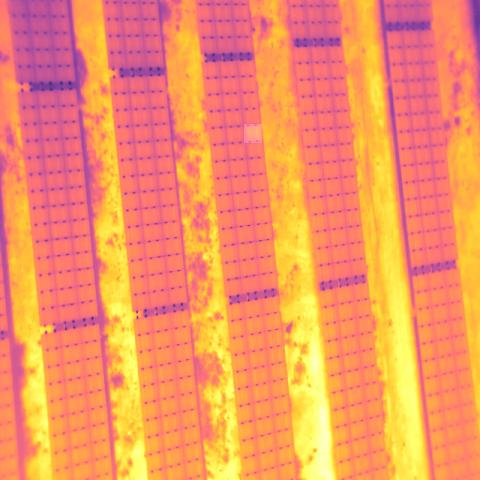fault: (244, 124, 262, 143)
